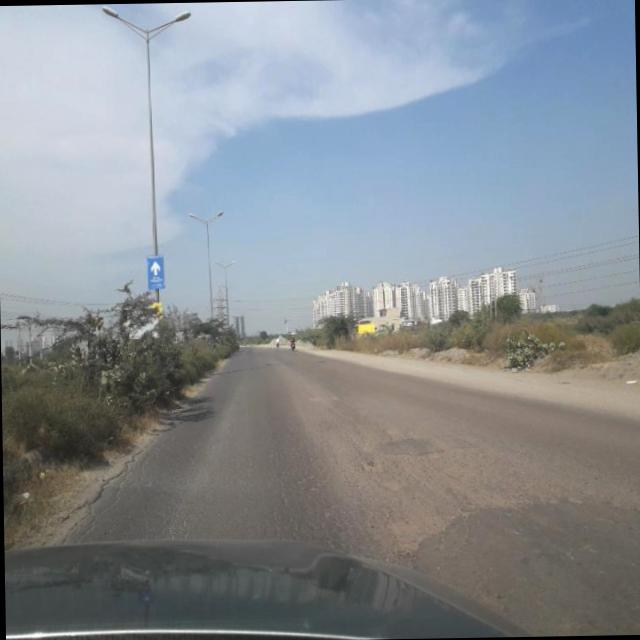crack: (120, 409, 634, 551), (38, 434, 148, 542)
pothole: (373, 498, 464, 558), (360, 454, 419, 494), (600, 478, 640, 515)
